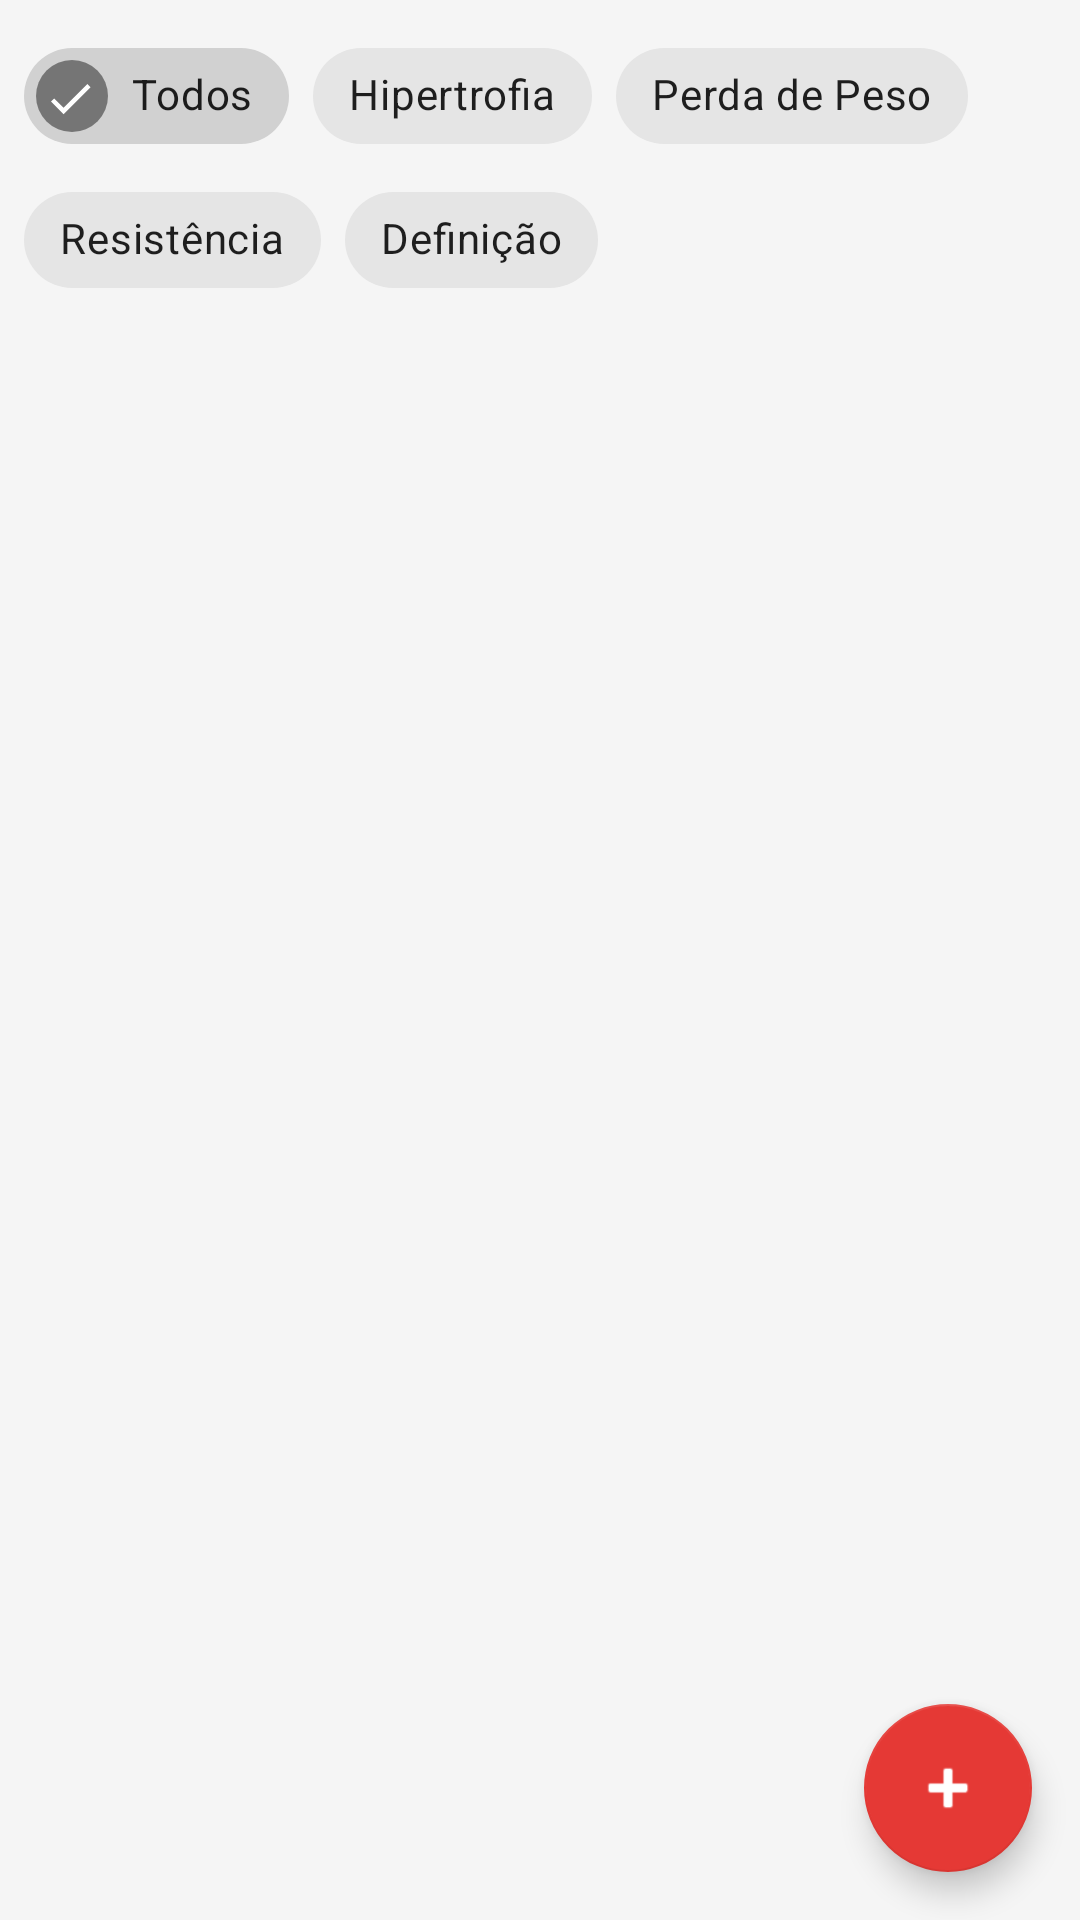

Named icons in this screenshot (1080x1920) and their bounding boxes, (x1, y1, x2, y2):
Adicionar: (864, 1704, 1032, 1872)
